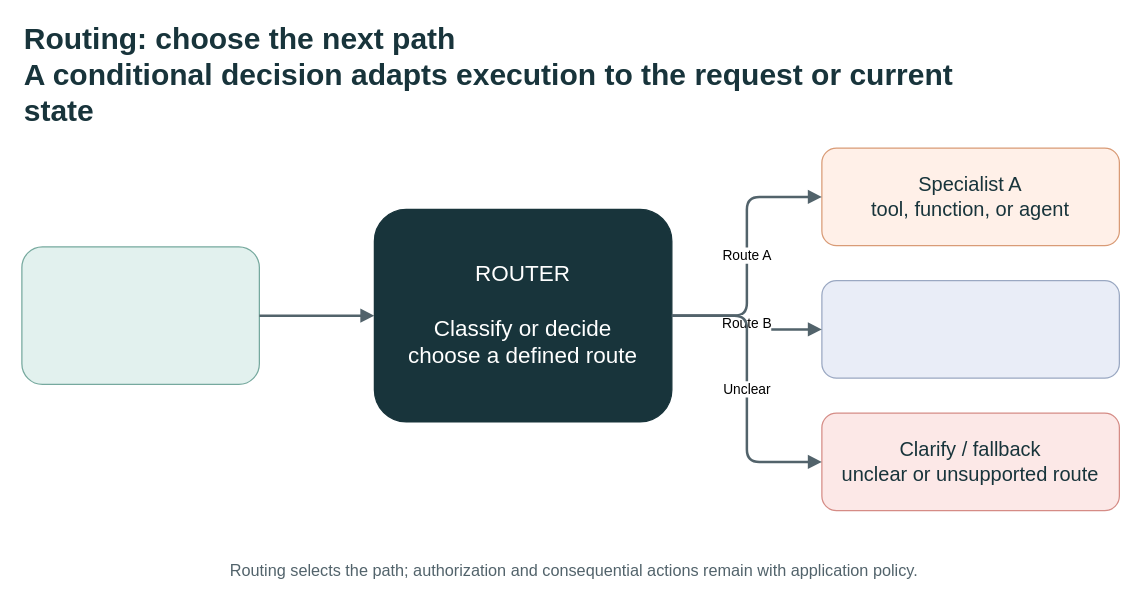
This 1141x611 diagram has some shape labels left out. The shapes that lost their labels are listed below. From the top down, each one's centre as x and y in pixels, then its label:
point 140,315: User request + current state
point 970,328: Specialist B tool, function, or agent
